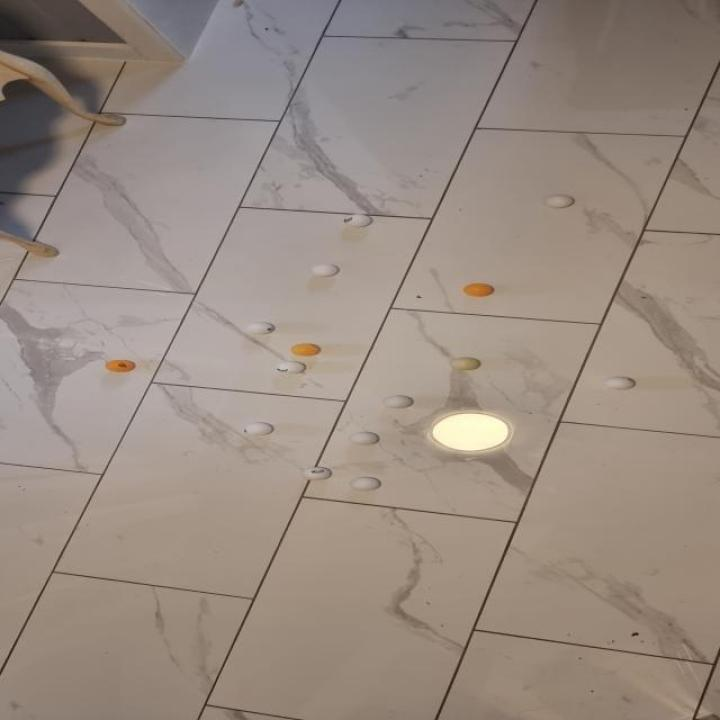orange: (462, 283, 494, 296), (103, 359, 134, 372), (290, 343, 321, 356)
white: (347, 476, 382, 492), (602, 376, 638, 390), (543, 194, 575, 209), (348, 432, 380, 446), (309, 263, 340, 277), (449, 357, 480, 371), (342, 214, 372, 228), (243, 422, 272, 436), (301, 467, 332, 480), (383, 395, 411, 409), (275, 361, 305, 374), (246, 323, 274, 334)
